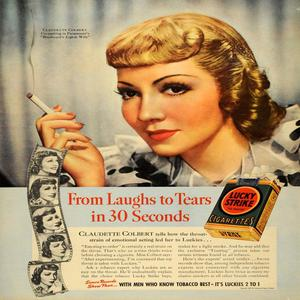cigarette: (25, 93, 60, 119)
